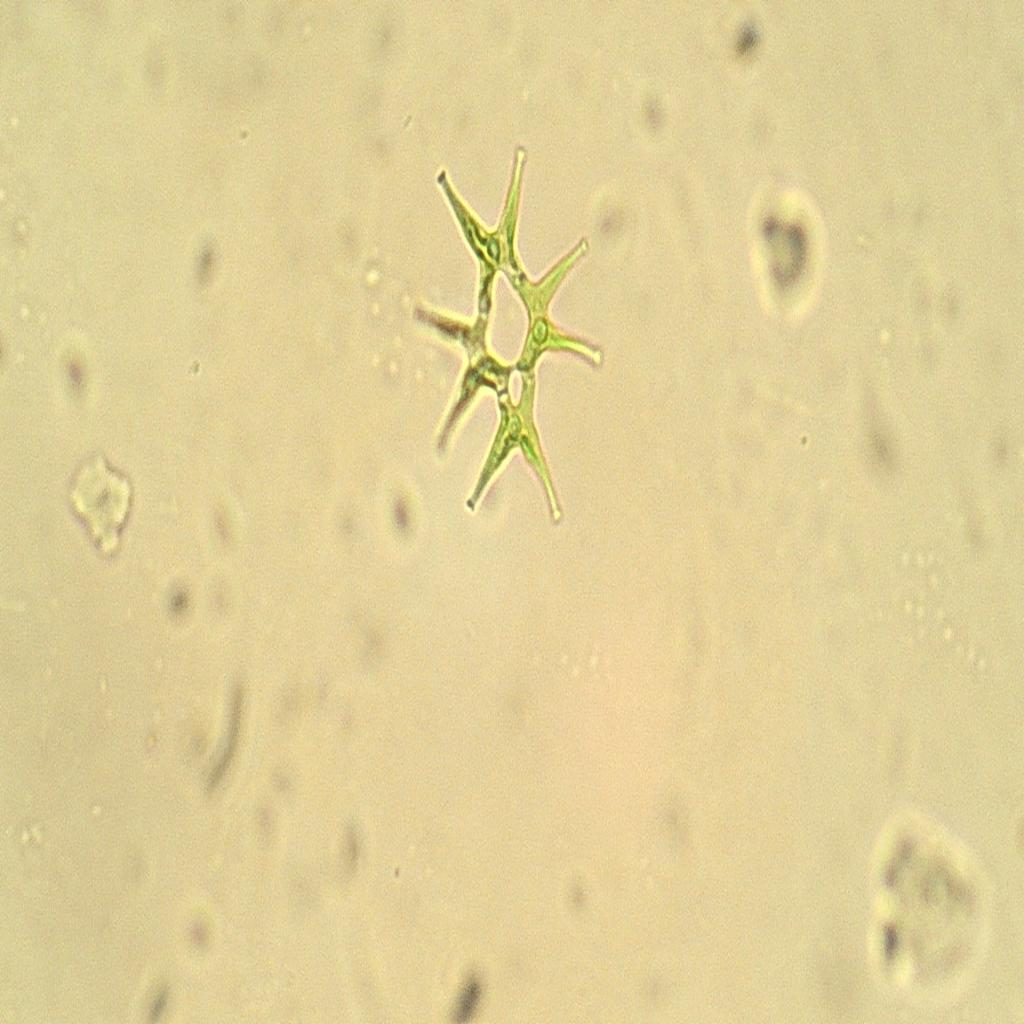Pediastrum_CF: (394, 134, 614, 543)
